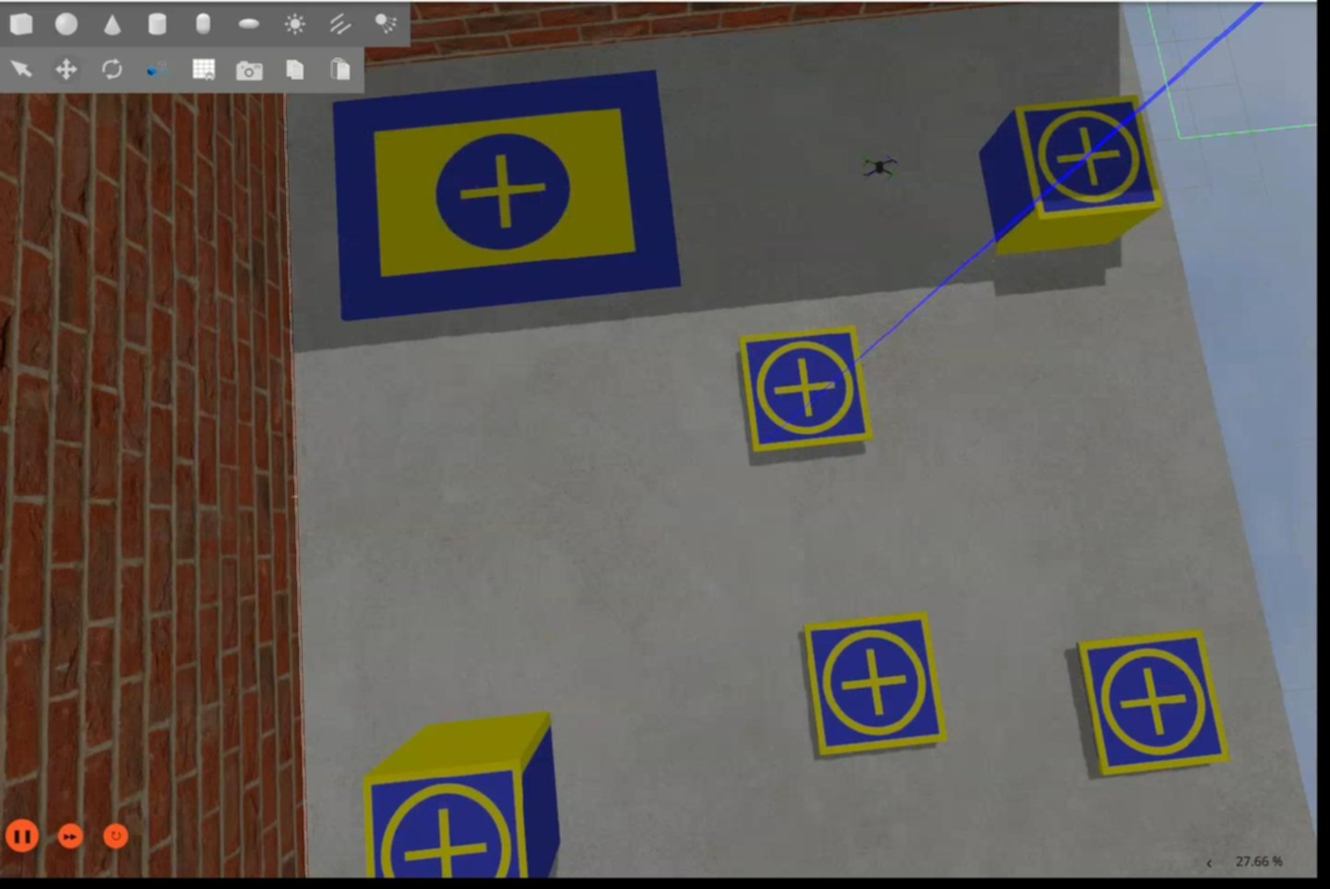large_base: (333, 74, 686, 326)
small_base: (1074, 627, 1231, 780), (803, 612, 950, 762), (363, 757, 535, 879), (1012, 97, 1168, 225), (736, 325, 874, 461)
